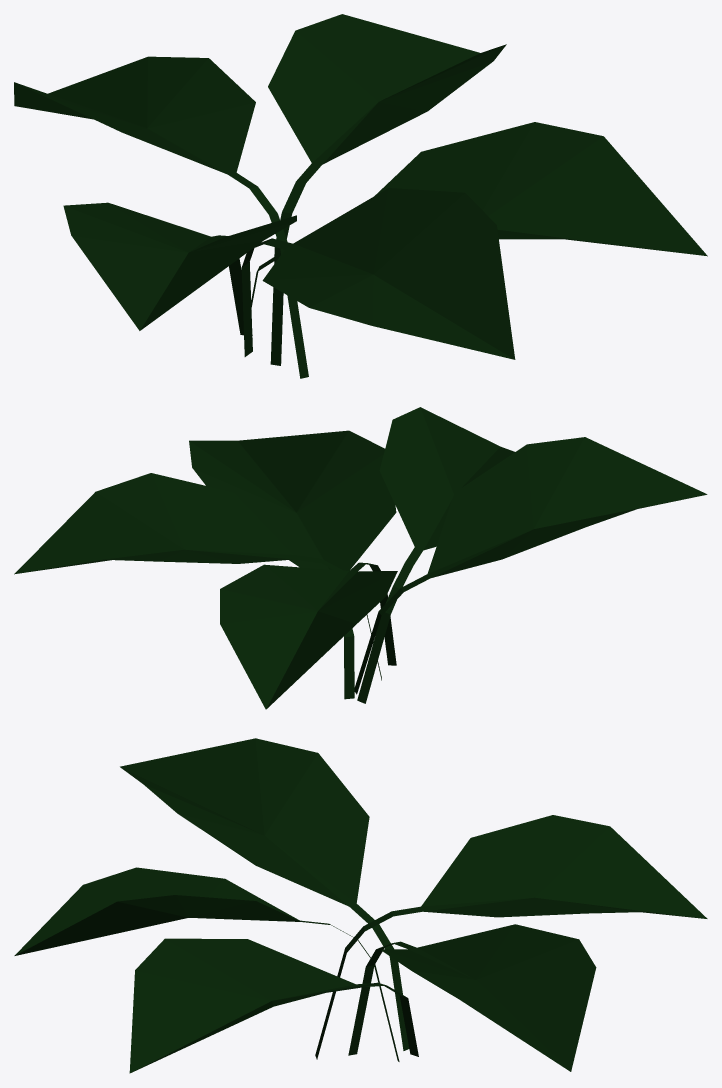
The model's file is SM_GroundPlant_01.obj.
The picture shows the model from 3 angles, top to bottom: view 1: azimuth 30°, elevation 25°; view 2: azimuth 150°, elevation 25°; view 3: azimuth 270°, elevation 25°; orthographic projection. The views are drawn at different scales.
Parts seen in each view (by area): view 1: SM_GroundPlant_01; view 2: SM_GroundPlant_01; view 3: SM_GroundPlant_01.
Part boxes in pixels (x1,y1,x2,y2): SM_GroundPlant_01: (14,14,707,378); SM_GroundPlant_01: (14,407,707,709); SM_GroundPlant_01: (14,738,707,1073).
Bounding box in the file's own units: 1.39 × 0.562 × 1.59.
